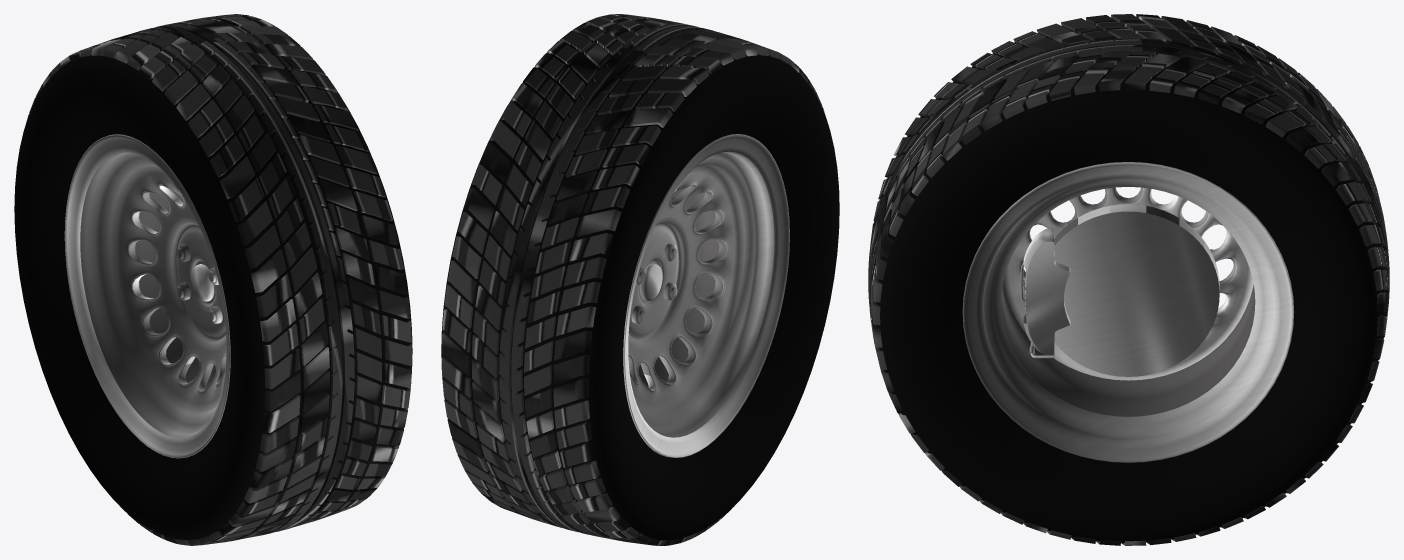
File: LLanta_Delantera_Izquierda.obj
3 views of the same model, side by side, from view 1: azimuth 30°, elevation 25°; view 2: azimuth 150°, elevation 25°; view 3: azimuth 270°, elevation 25° (orthographic).
Visible parts, largest first — view 1: Object078, Object080, Object074, Object066, Object076; view 2: Object078, Object080, Object074, Object066, Object076; view 3: Object080, Object074, Object078, Object070, Object068.
Part boxes in pixels (x1,y1,x2,y2): Object078: [27, 14, 412, 545]; Object080: [14, 33, 412, 540]; Object074: [64, 134, 230, 458]; Object066: [176, 243, 222, 323]; Object076: [192, 264, 213, 301]; Object078: [441, 14, 827, 545]; Object080: [441, 25, 839, 540]; Object074: [623, 134, 789, 457]; Object066: [631, 243, 677, 323]; Object076: [640, 263, 662, 301]; Object080: [876, 21, 1384, 542]; Object074: [962, 162, 1293, 462]; Object078: [868, 14, 1389, 545]; Object070: [1054, 204, 1219, 376]; Object068: [1020, 228, 1070, 358].
Bounding box in the file's own units: 20.81 × 57.67 × 57.66.
4 materials, 2 textured.
